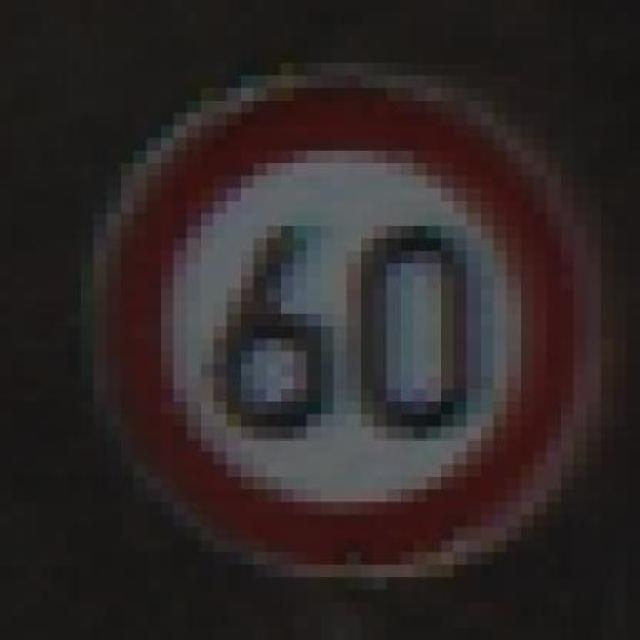forb_speed_over_60: (102, 72, 589, 571)
